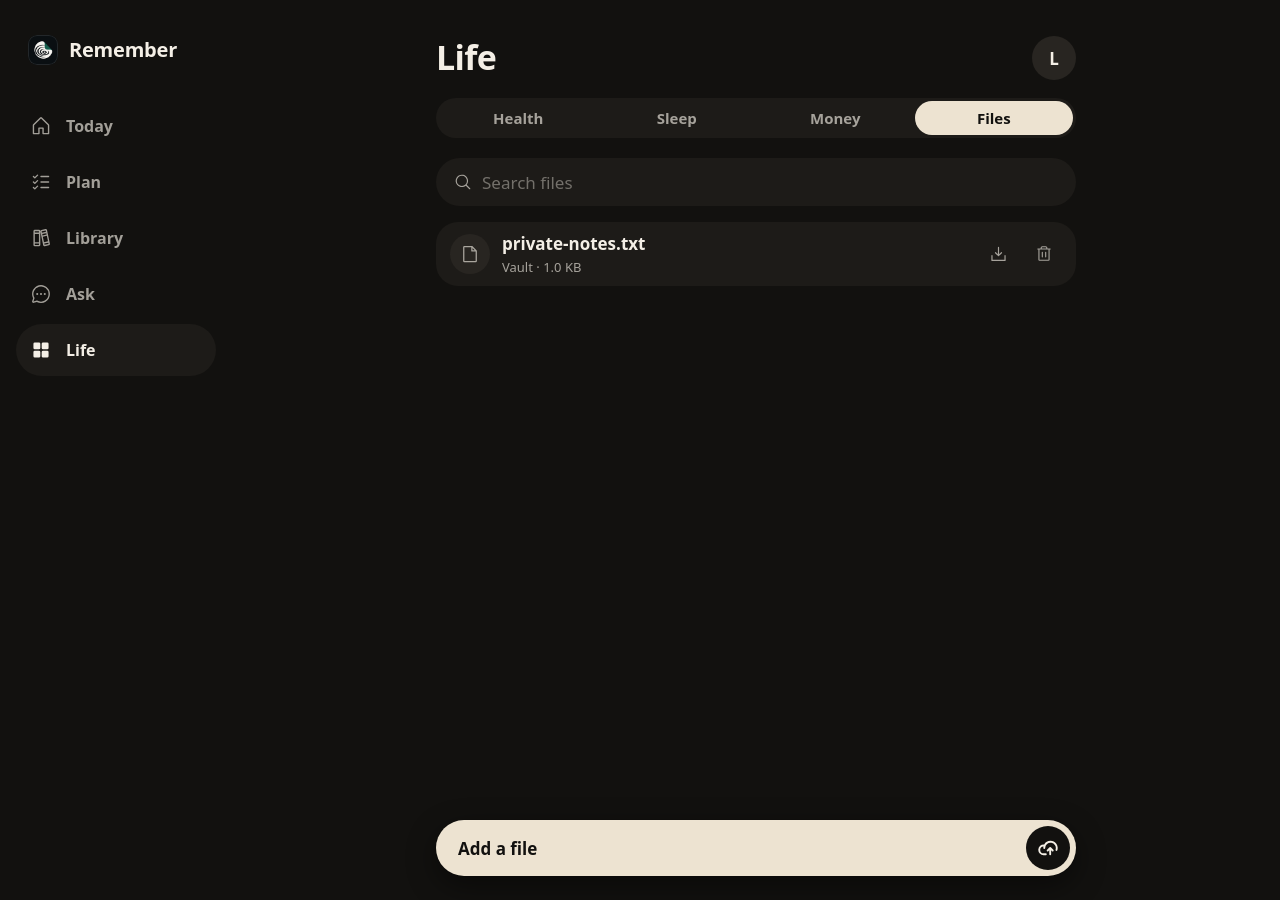
Test: Remember app › uses an accessible in-app confirmation before permanently deleting a file
This screenshot has width=1280, height=900.
Click the button named "Delete private-notes.txt": (1044,254) [1022,232,1066,276]
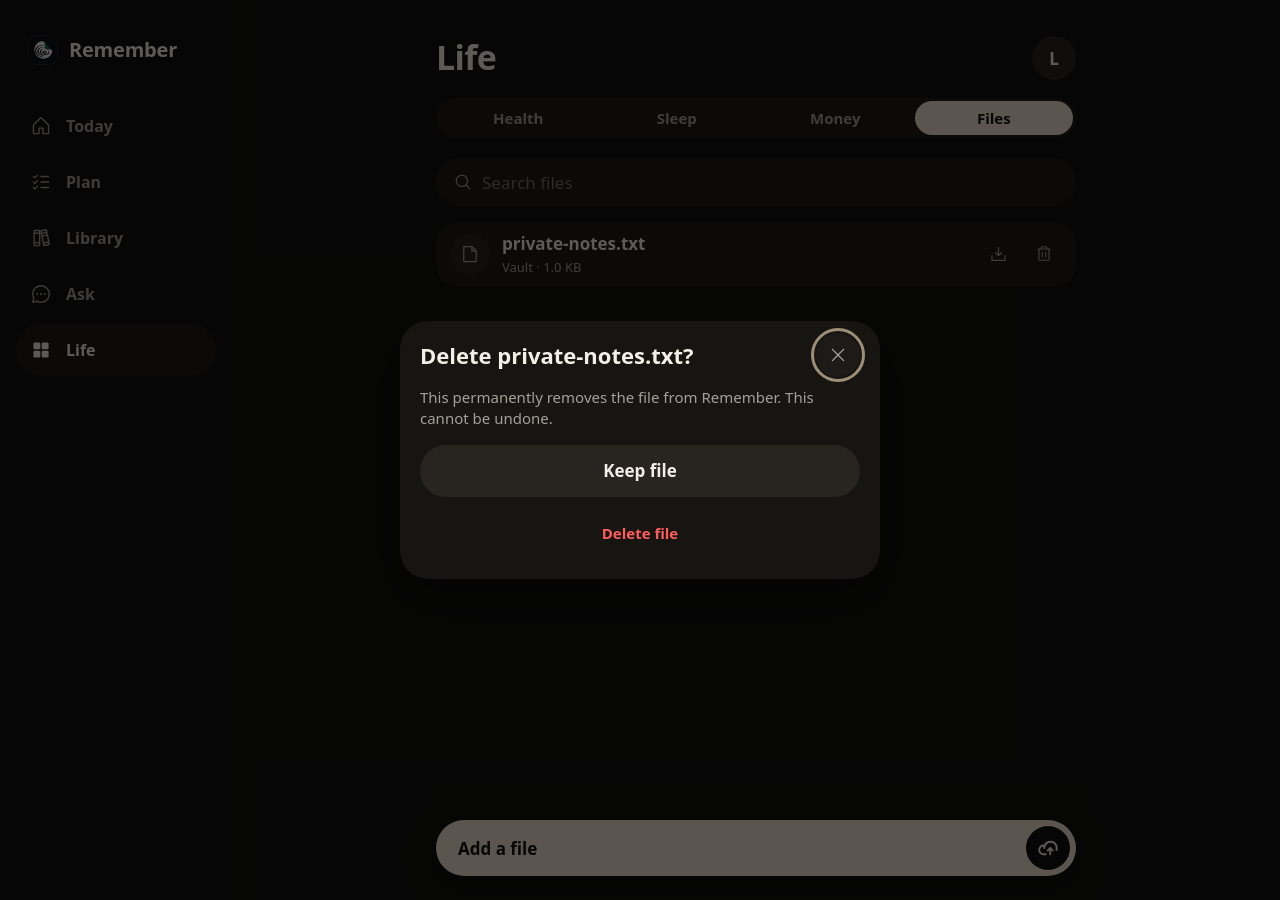
Result: the text "This permanently removes the file from Remember. This cannot be undone." is shown at [420,387,860,429]
Click the button "Keep file": (640,471) [420,445,860,497]
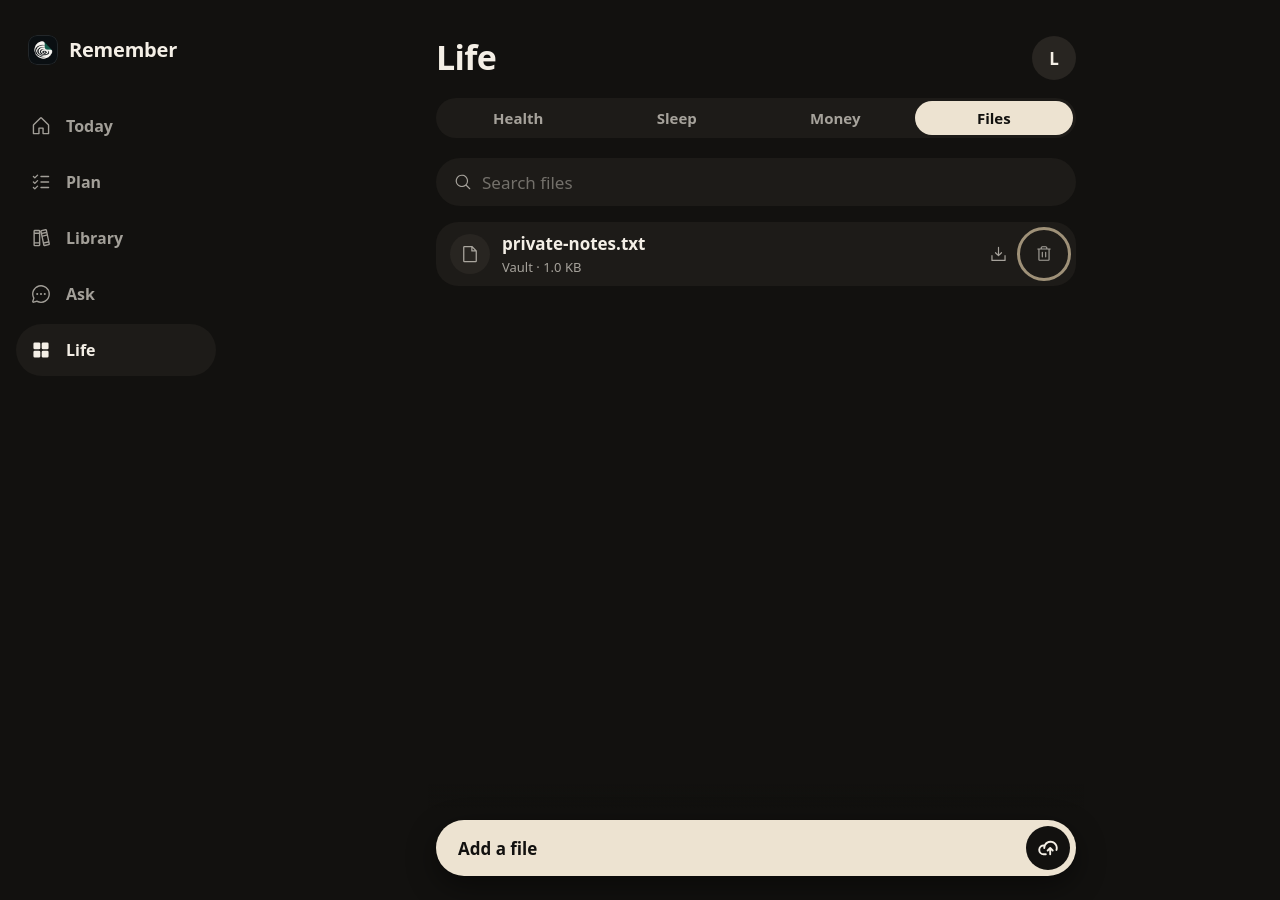
Expected: the text "private-notes.txt" is shown, [502,232,646,255]
Result: the dialog is gone
Click the button named "Delete private-notes.txt": (1044,254) [1022,232,1066,276]
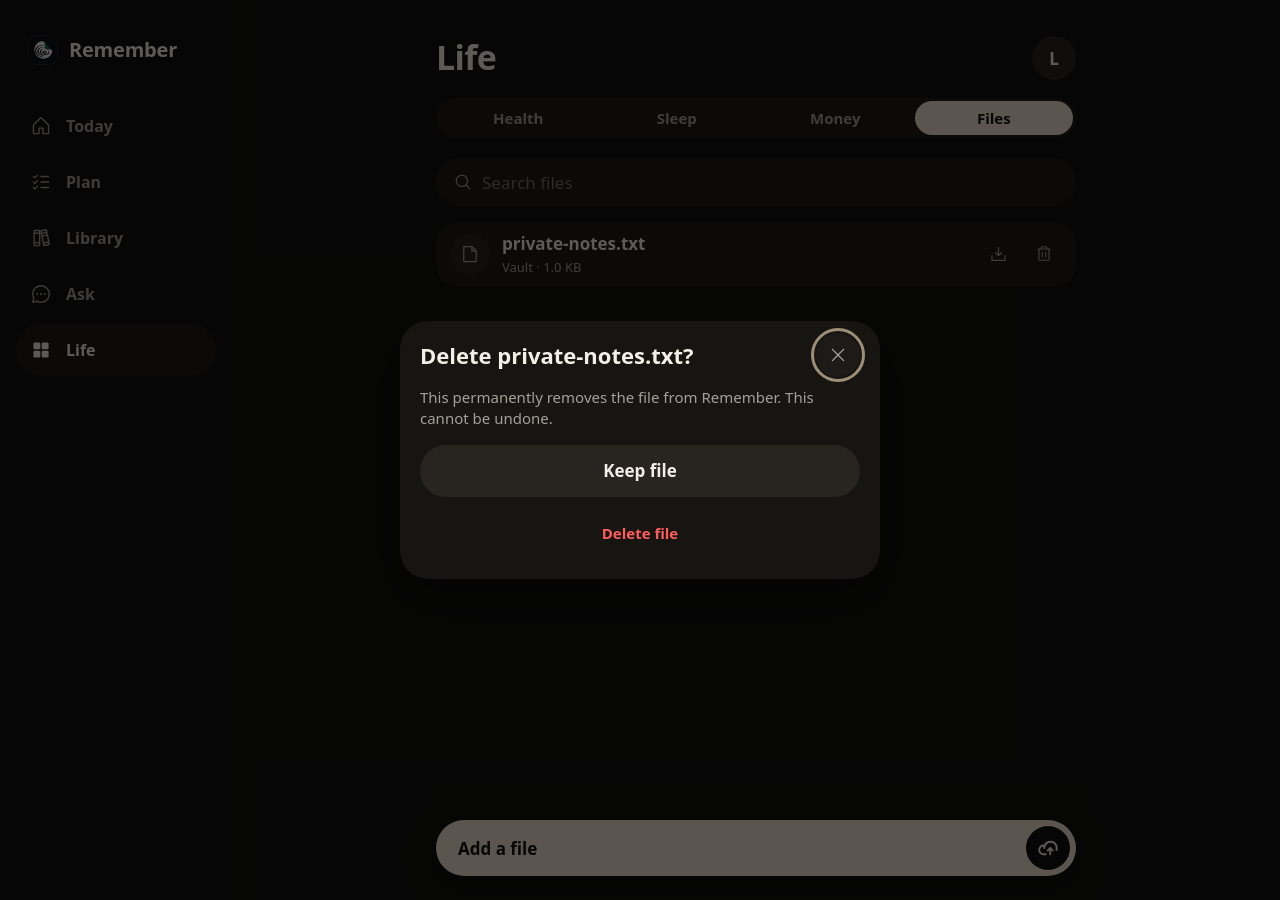
Click the button "Delete file": (640,533) [594,511,686,555]
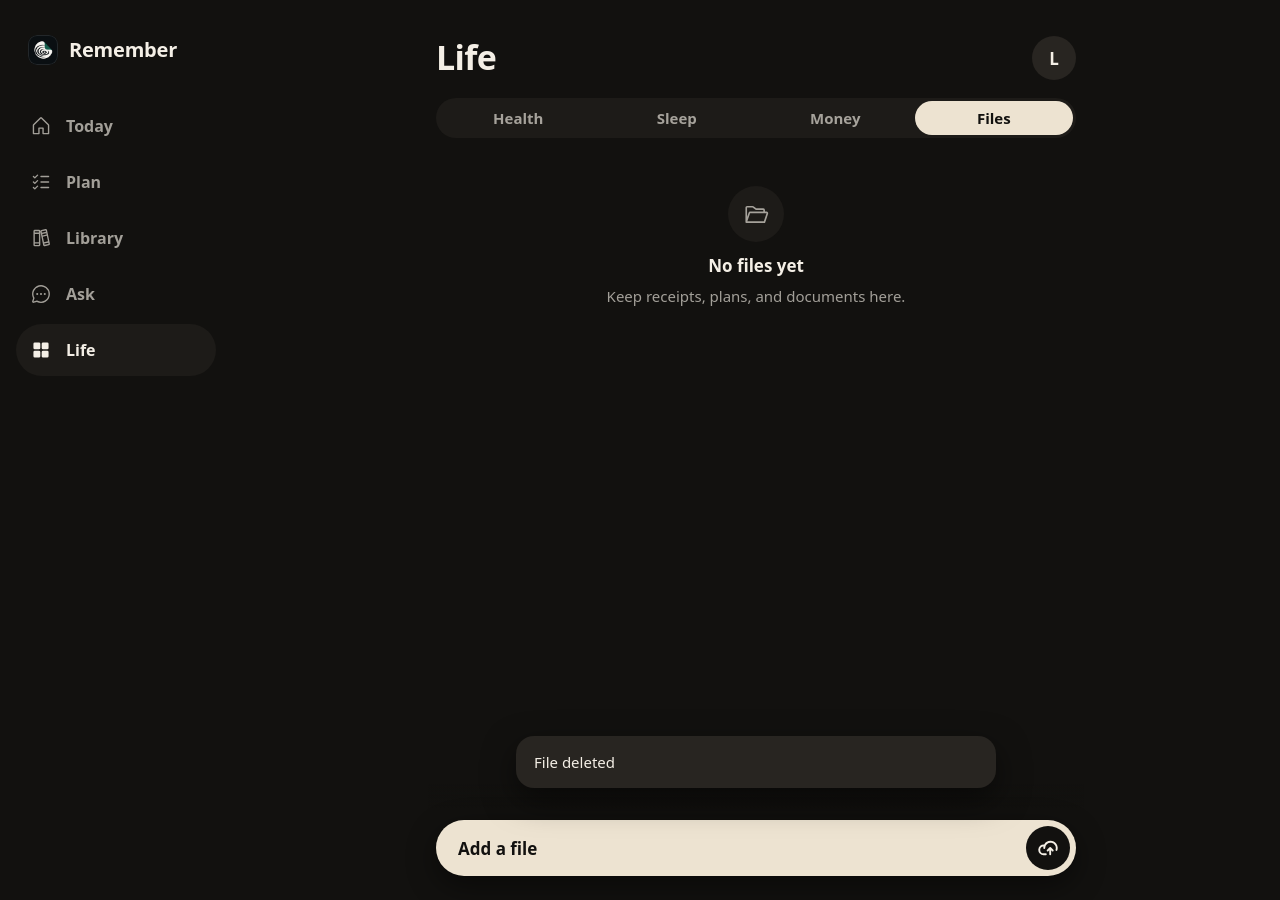
Result: the text "private-notes.txt" is gone
